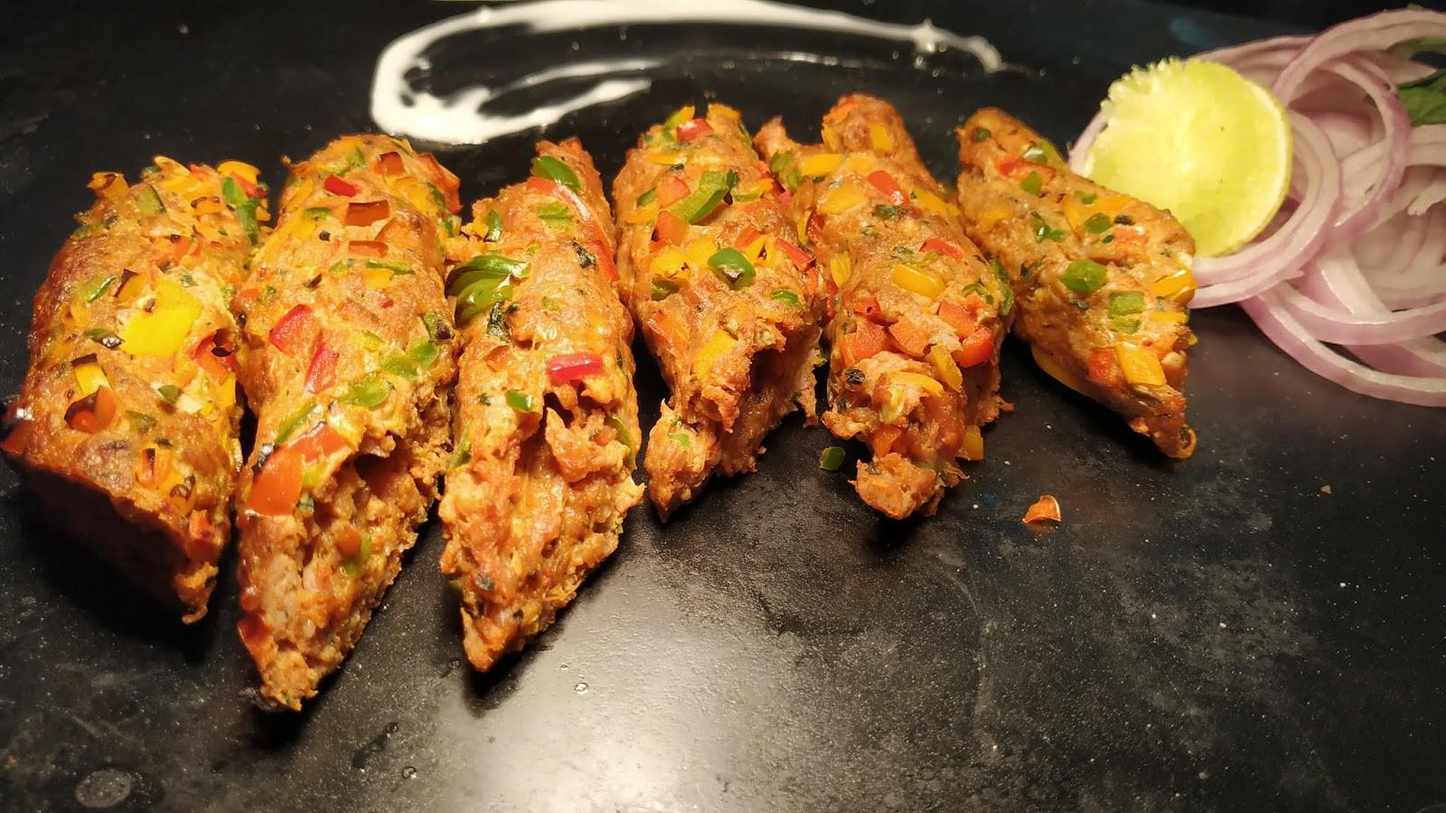Kebab: (233, 136, 467, 712), (0, 155, 263, 625), (444, 137, 641, 669), (763, 94, 1006, 517), (616, 105, 821, 518), (958, 109, 1196, 459)
